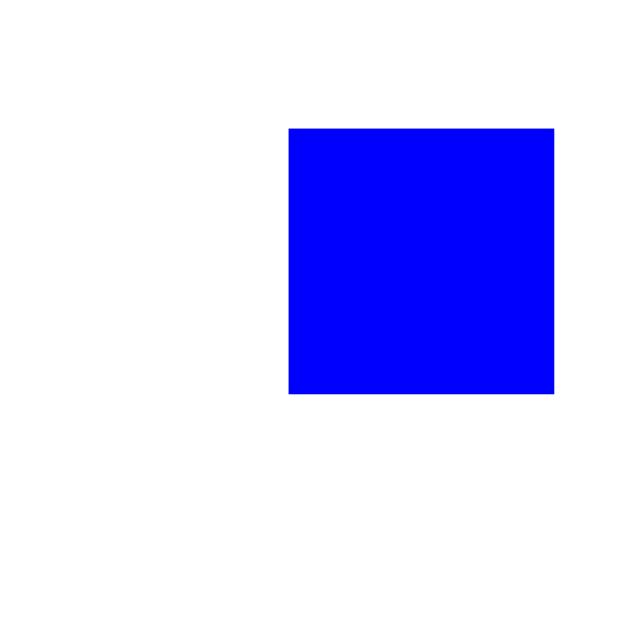square: (271, 113, 596, 418)
